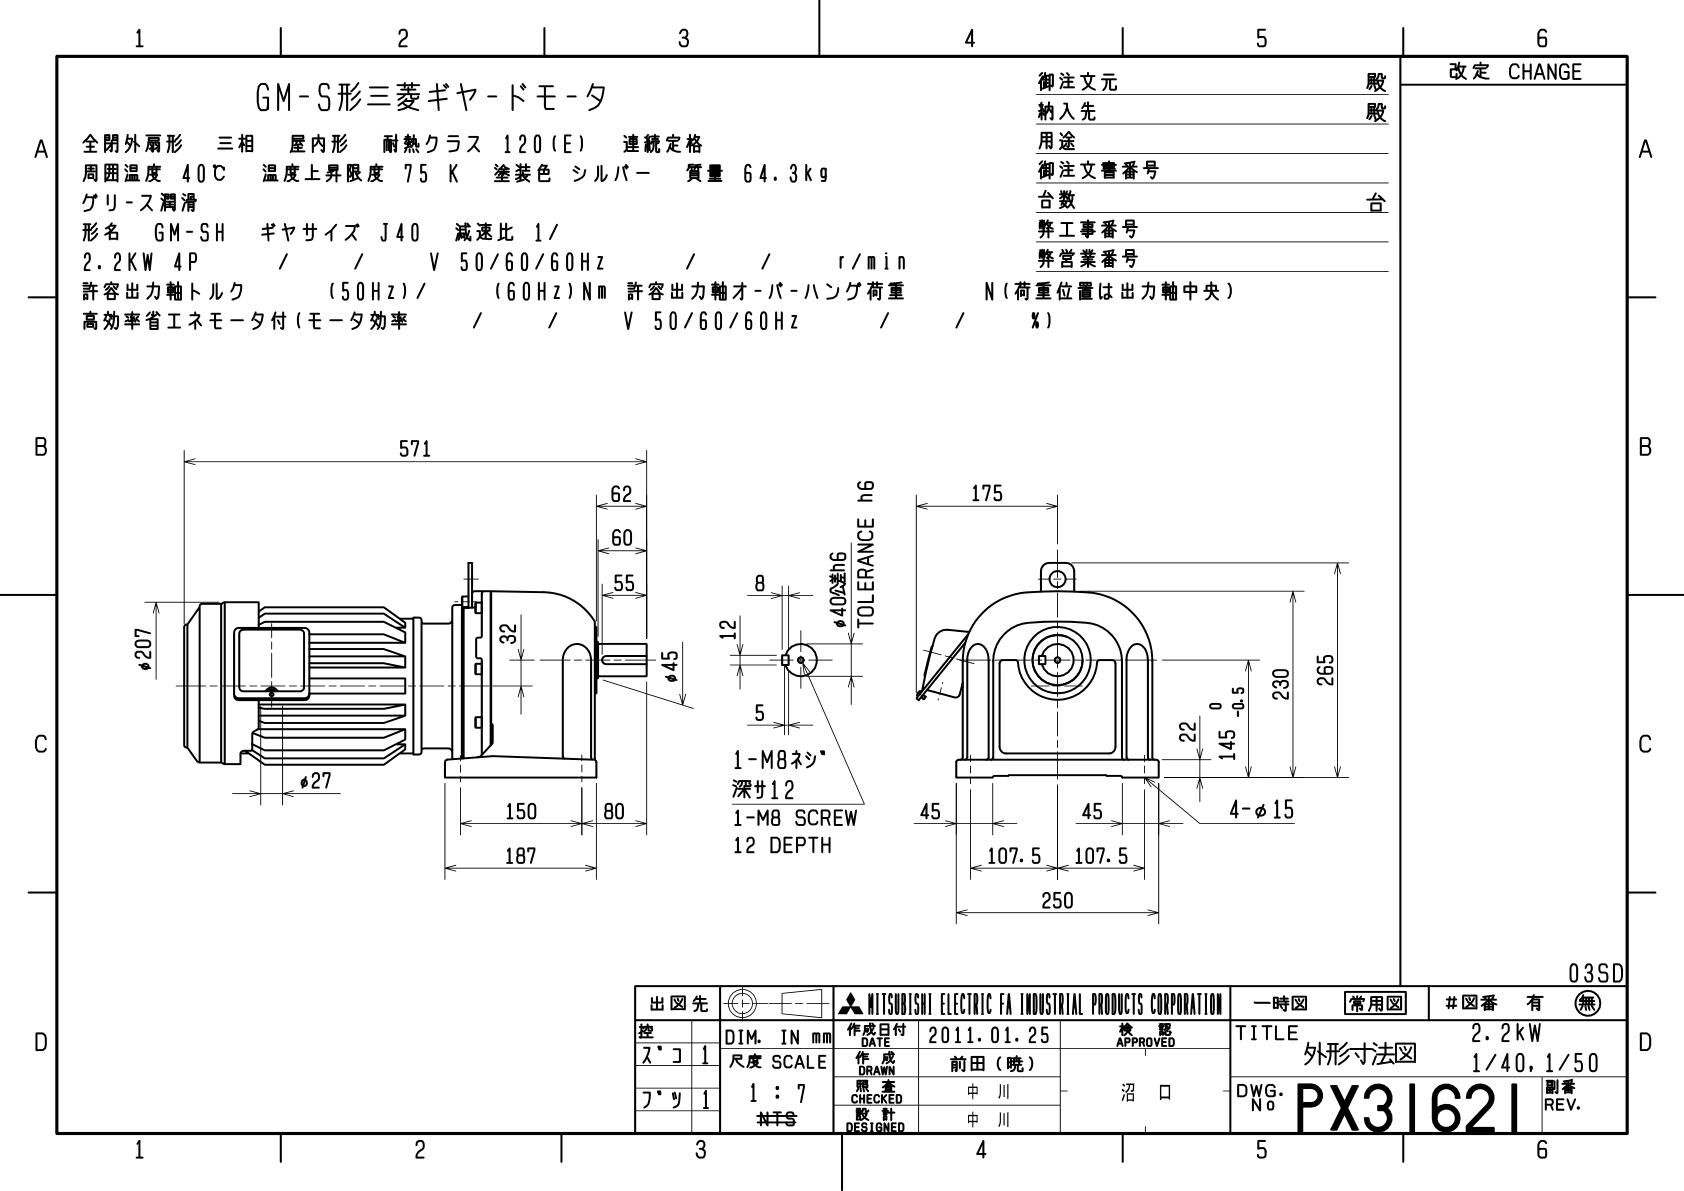GM_S_高効率屋内＿三相_脚: (107, 391, 1375, 949)
